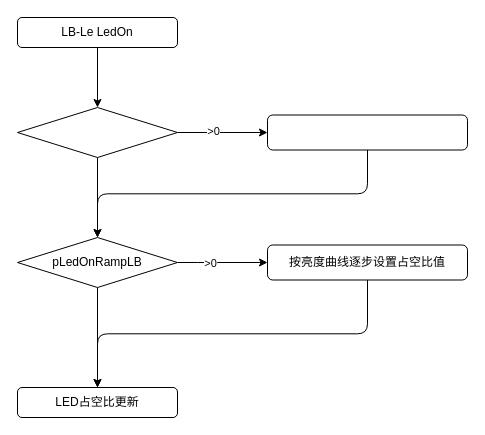
Image size: 485x435. Some labels were removed from this diagram. Each missing label, with the centre of its shape:
"pLedOnDelayLB" belongs at point (97, 132).
"等待时间后设置通道使能值" belongs at point (367, 132).
